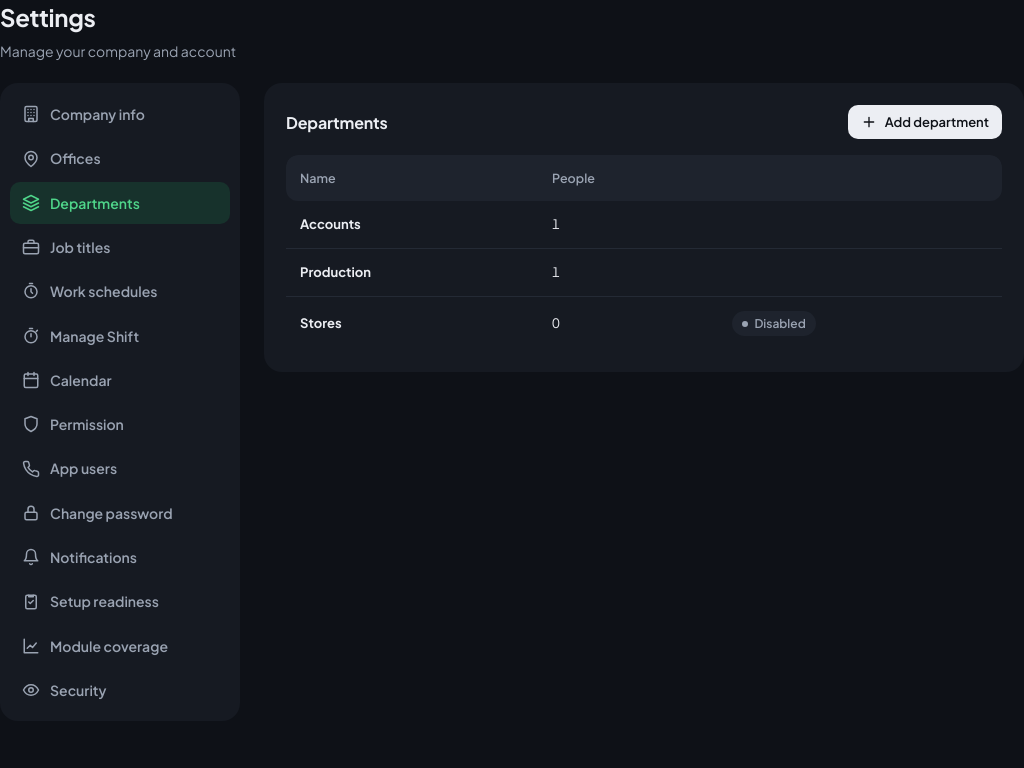
Test: Settings › adds a department here with its name and company, and reads the list again
Click the button "Add department" at (925, 122), box [848,105,1002,139]
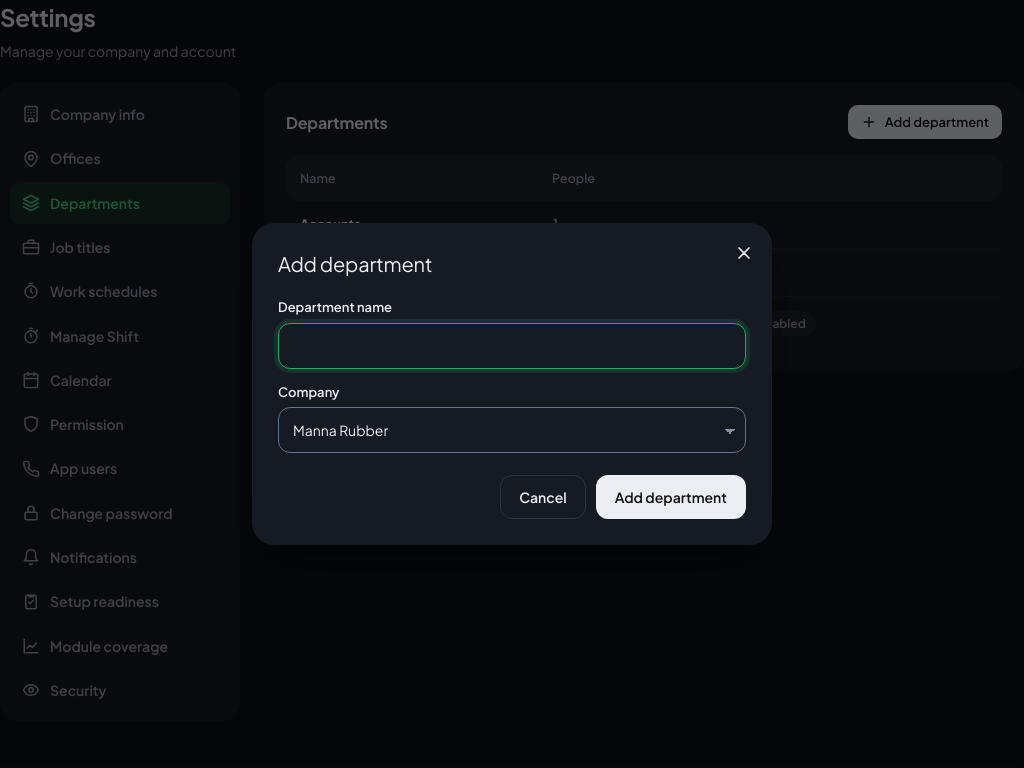
Type "Quality" into the field with id "dp-name" at (512, 346), box [278,322,746,368]
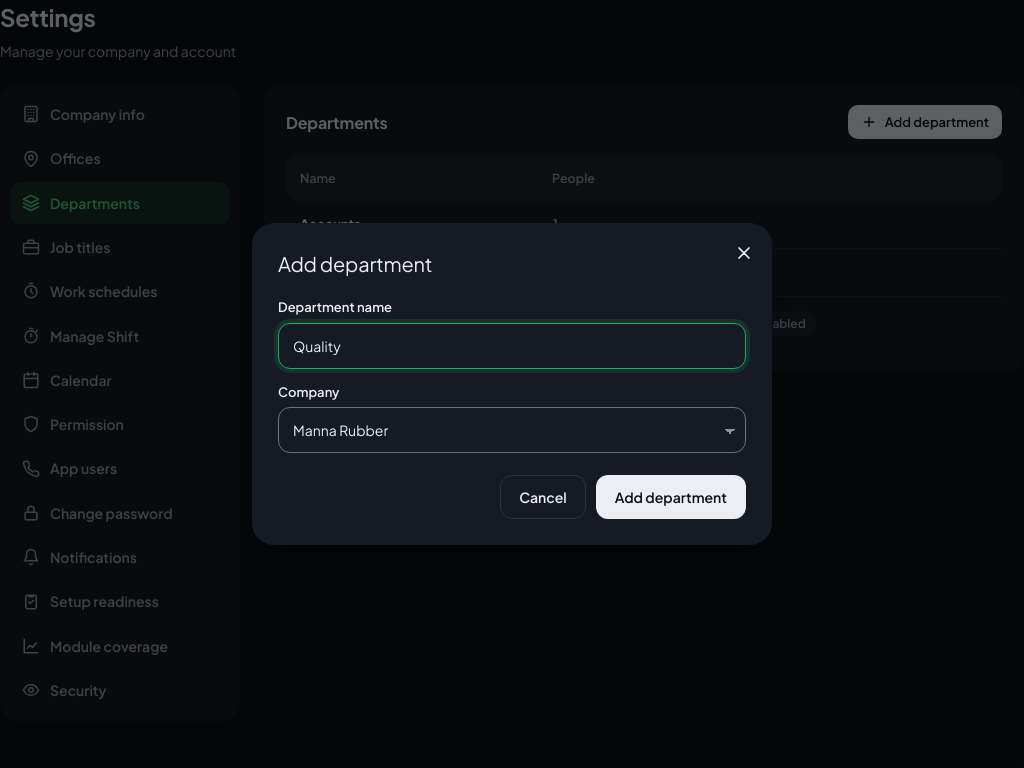
Submit the form with id "dp-name", box [278,298,746,519]
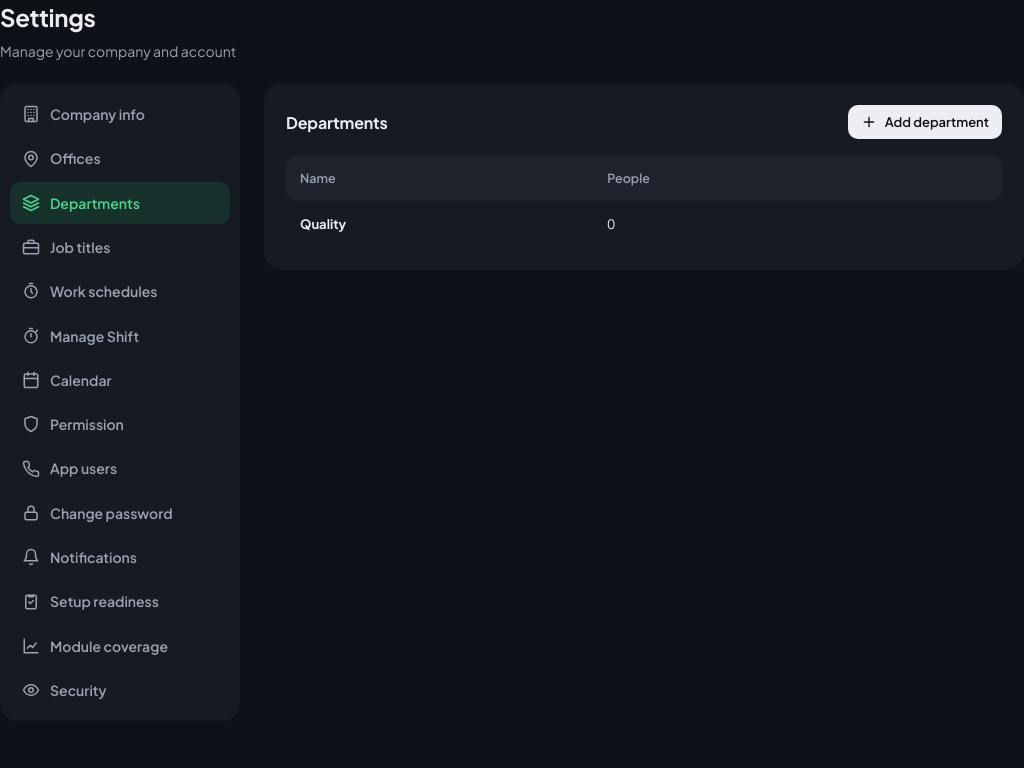
Result: the label with id "dp-name" is gone
